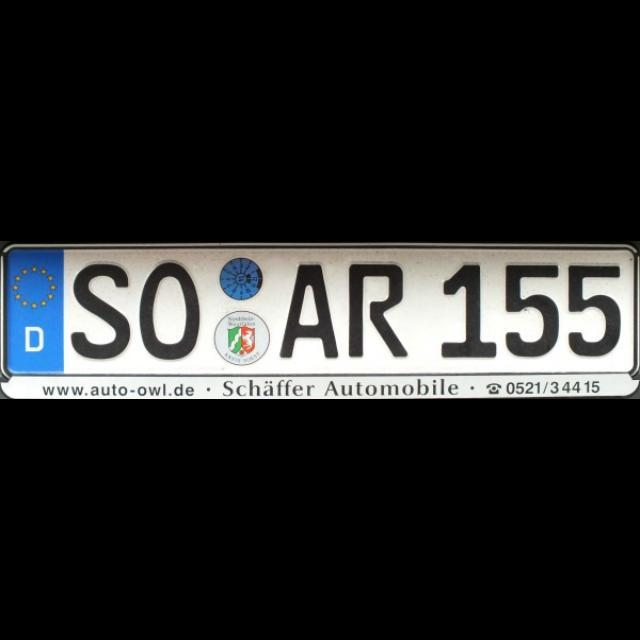license-plates: (0, 245, 640, 398)
